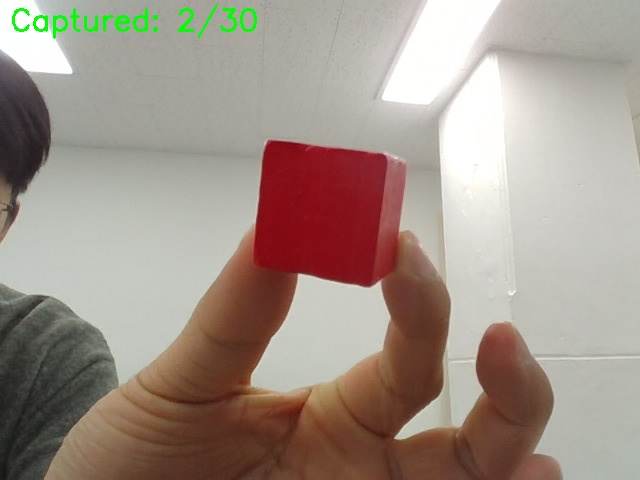Normal: (260, 132, 414, 278)
